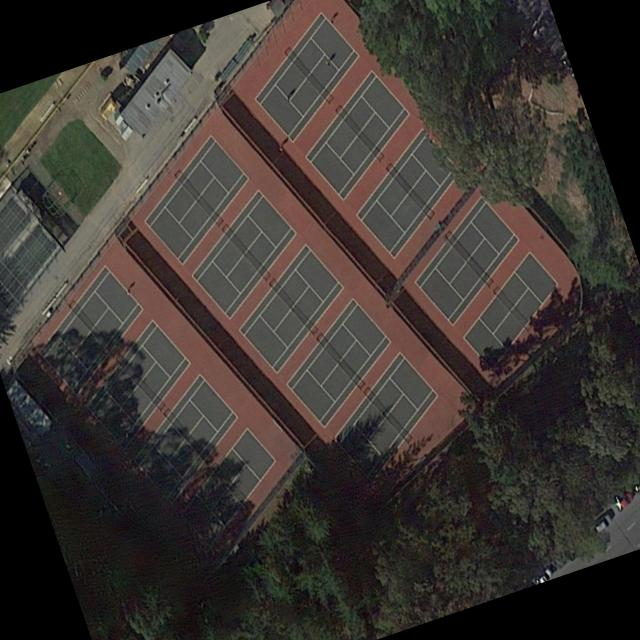small-vehicle: (613, 487, 635, 511), (590, 509, 612, 533), (631, 475, 640, 494)
